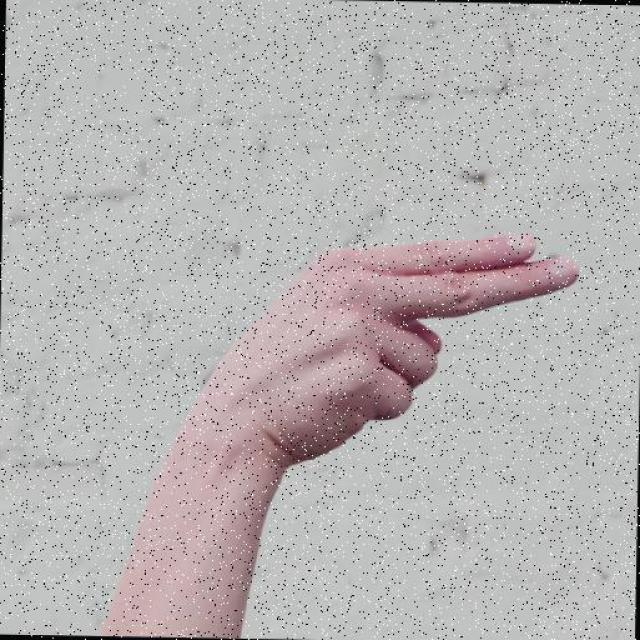H: (182, 215, 588, 514)
